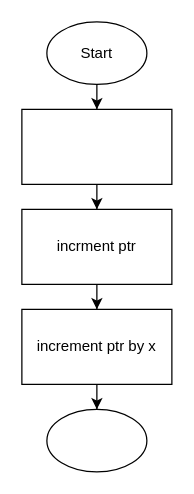
Some shapes in this 194 by 494 pixel diagram are drawn without their labels. Each missing label, with the centre of its shape:
mul y by char per row: pixel 96 146
Stop: pixel 96 440
